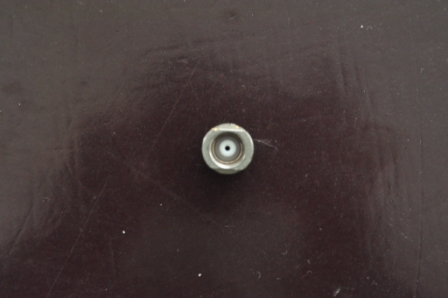RF CONNECTOR: (200, 123, 255, 176)
